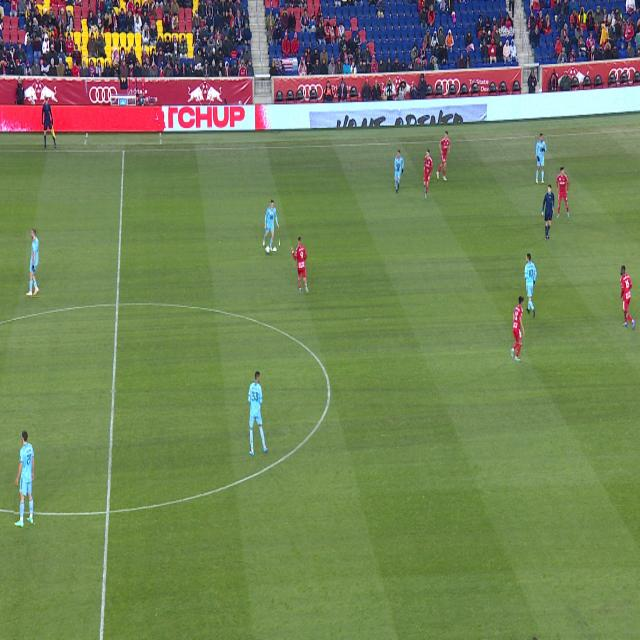football: (266, 246, 270, 254)
player: (15, 431, 34, 528), (248, 371, 268, 456), (620, 265, 636, 330), (291, 235, 308, 293), (511, 296, 525, 361), (26, 230, 39, 296), (524, 253, 537, 319), (264, 199, 279, 251), (436, 131, 450, 181), (557, 167, 569, 219), (536, 134, 547, 184), (423, 150, 433, 199), (395, 149, 404, 193)
referee: (542, 185, 554, 240)
